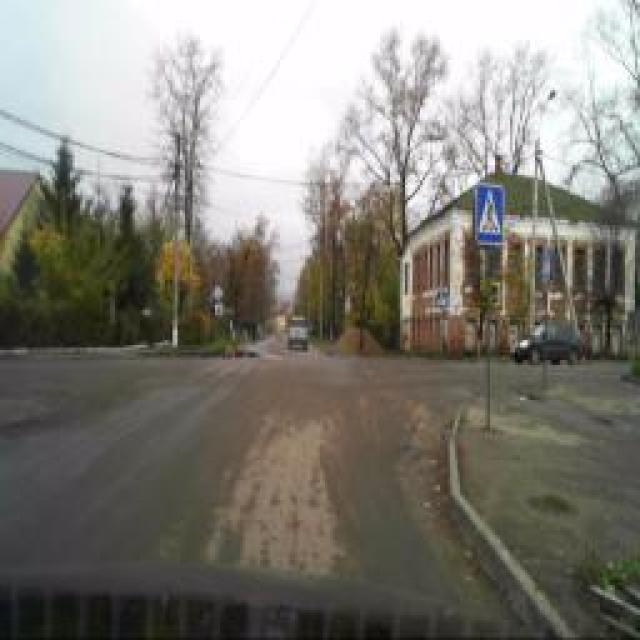sign: (474, 183, 504, 245), (541, 246, 551, 282), (436, 289, 446, 309)
